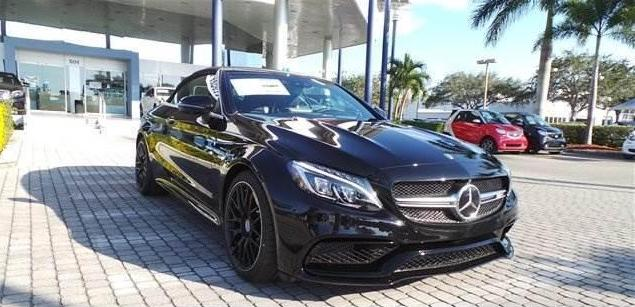C63AMG: (130, 63, 524, 283)
